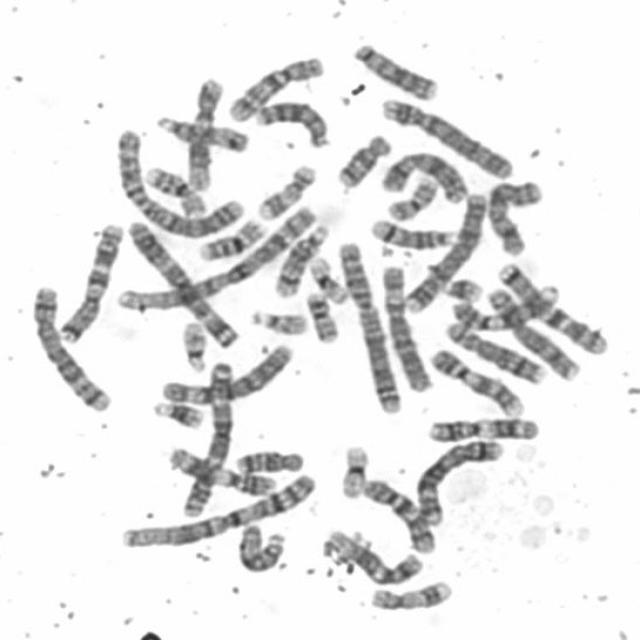A1: (113, 202, 325, 316), (116, 469, 321, 551)
A2: (114, 124, 248, 240), (332, 235, 407, 418)
A3: (122, 213, 240, 349), (178, 355, 238, 520)
B4: (376, 94, 515, 180), (400, 188, 490, 312)
B5: (27, 280, 115, 416), (411, 433, 507, 528)
C10: (225, 51, 326, 123), (358, 474, 439, 556)
C11: (166, 442, 280, 497), (422, 412, 544, 444)
C12: (322, 526, 426, 586), (182, 74, 227, 191)
C6: (157, 339, 295, 406), (378, 260, 436, 394)
C7: (491, 257, 611, 357), (52, 218, 126, 344)
C8: (484, 282, 585, 383), (440, 316, 550, 385)
C9: (426, 342, 528, 418), (444, 278, 561, 332)
D13: (346, 40, 439, 102), (250, 95, 335, 151)
D14: (269, 219, 330, 300), (365, 214, 458, 249)
D15: (150, 110, 250, 154), (232, 518, 289, 575)
E16: (140, 163, 208, 219), (195, 215, 269, 264)
E17: (253, 160, 317, 222), (366, 576, 454, 613)
E18: (330, 130, 393, 190), (232, 445, 306, 476)
F19: (304, 253, 352, 306), (335, 439, 371, 500)
F20: (380, 170, 440, 223), (302, 287, 341, 343)
G21: (146, 396, 208, 431), (434, 271, 485, 304)
G22: (244, 304, 309, 337), (176, 316, 210, 374)
X: (376, 148, 470, 206), (483, 174, 546, 259)
